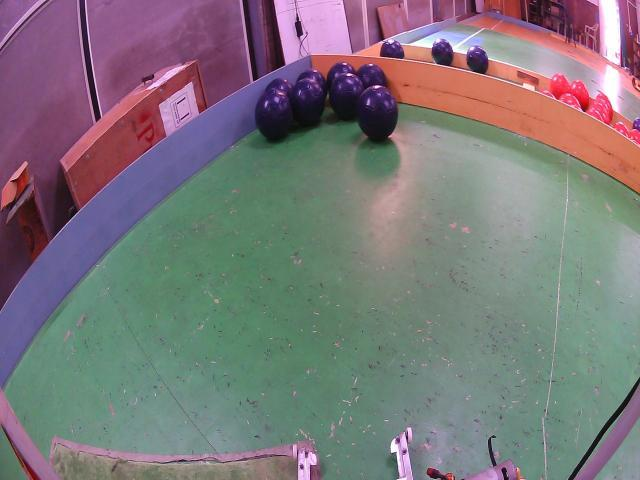jambhalya: (632, 117, 640, 132)
kaalyya: (356, 85, 399, 142), (255, 88, 292, 140), (329, 73, 364, 120), (291, 78, 325, 125), (296, 68, 328, 98), (326, 62, 356, 89), (356, 63, 388, 88), (431, 38, 454, 66), (466, 45, 489, 73), (265, 78, 292, 98), (380, 38, 405, 58)
